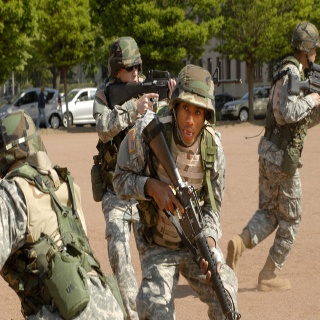rifle: (141, 116, 241, 320), (107, 66, 243, 109)
